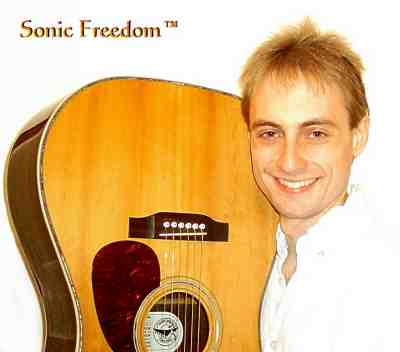guitar: (2, 75, 283, 352)
